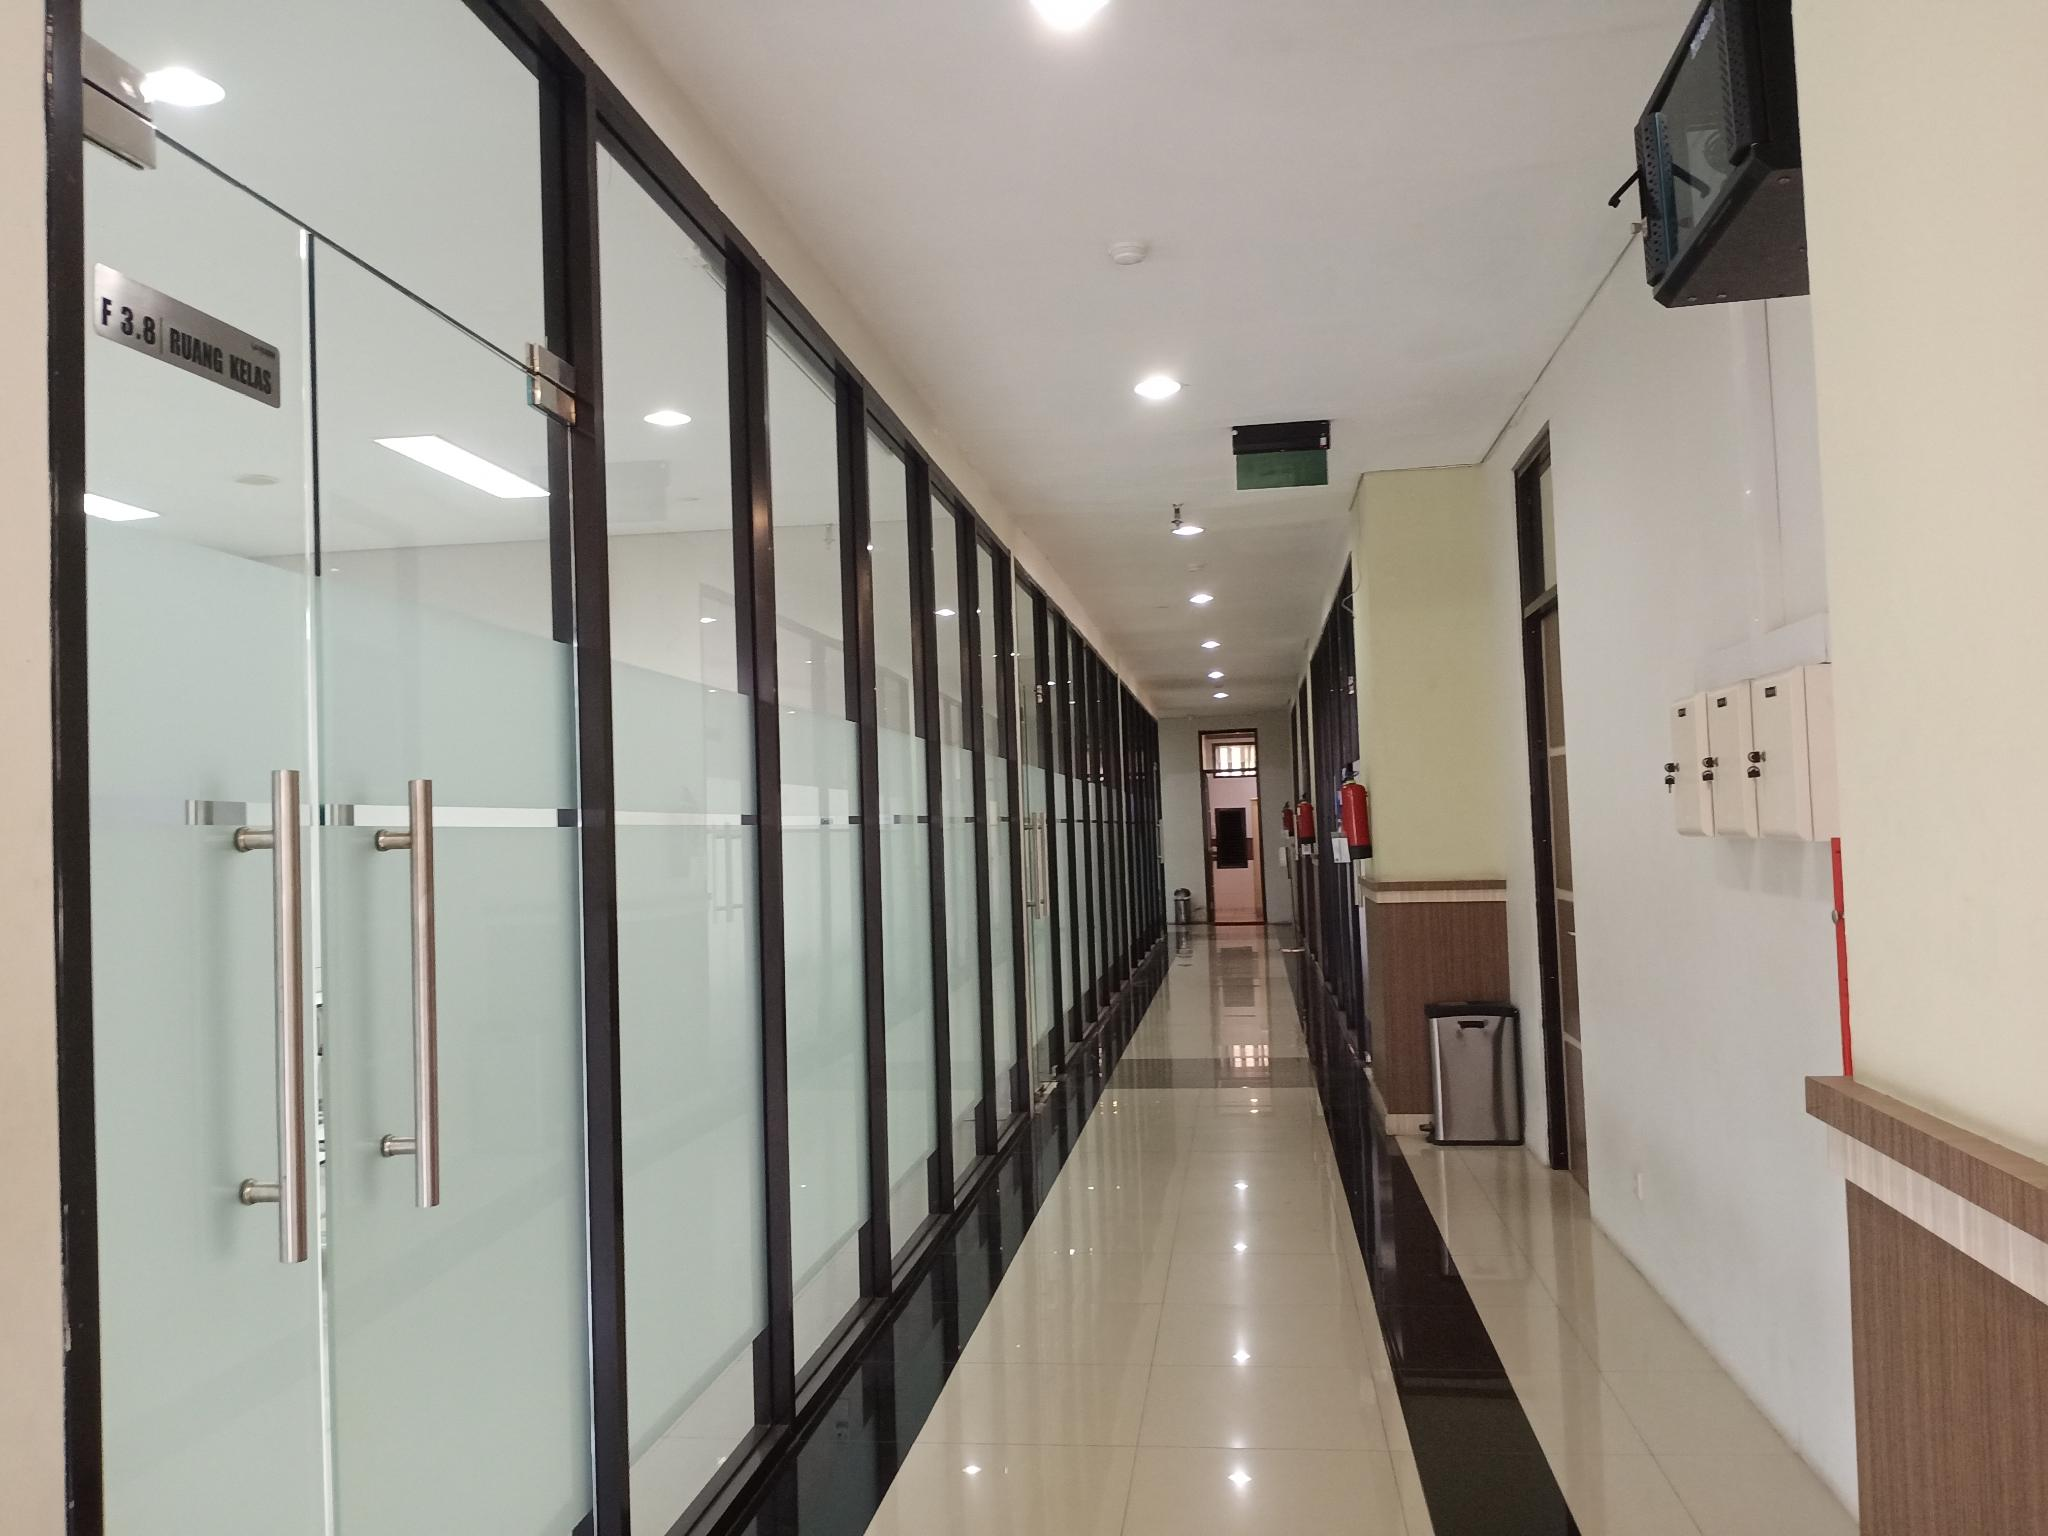plate: (95, 263, 281, 410)
